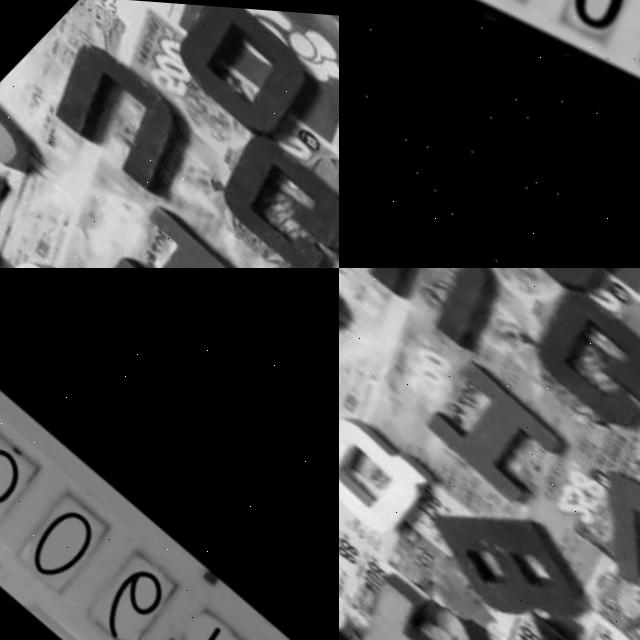0: (0, 484, 110, 597), (518, 0, 640, 63)
3: (596, 0, 640, 105)
5: (0, 422, 38, 540)
6: (64, 540, 178, 640)
7: (134, 598, 245, 640)
B: (411, 466, 596, 640)
F: (339, 561, 494, 640)
G: (508, 268, 640, 436), (201, 117, 339, 268)
I: (417, 354, 567, 504), (96, 193, 257, 268)
O: (158, 0, 331, 150)
Q: (339, 398, 436, 542)
U: (32, 29, 212, 208), (343, 268, 520, 357)
W: (557, 443, 640, 640)
